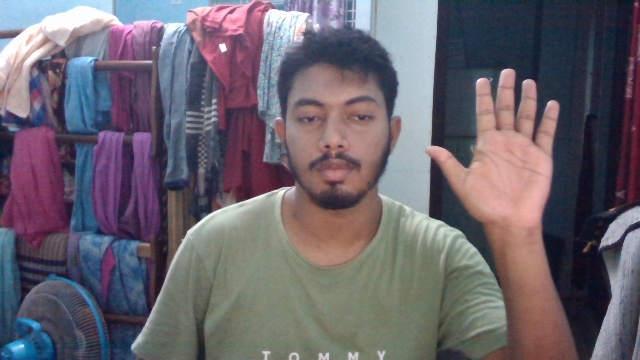hello: (424, 66, 561, 227)
